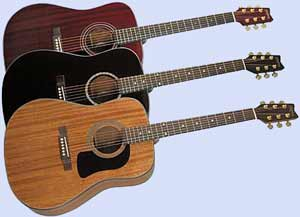guitar: (1, 97, 299, 217), (3, 48, 286, 125), (4, 2, 276, 68)
